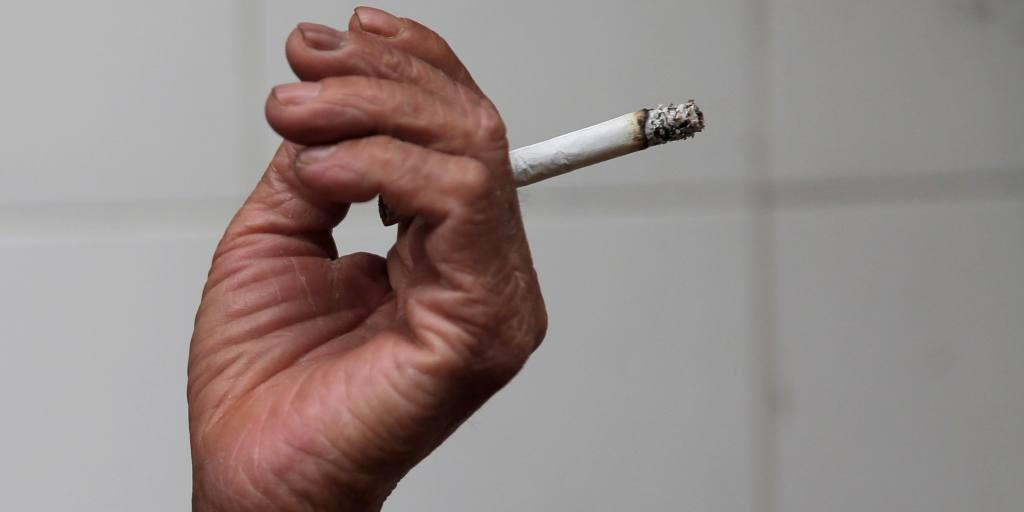sigaretta: (510, 93, 710, 196)
